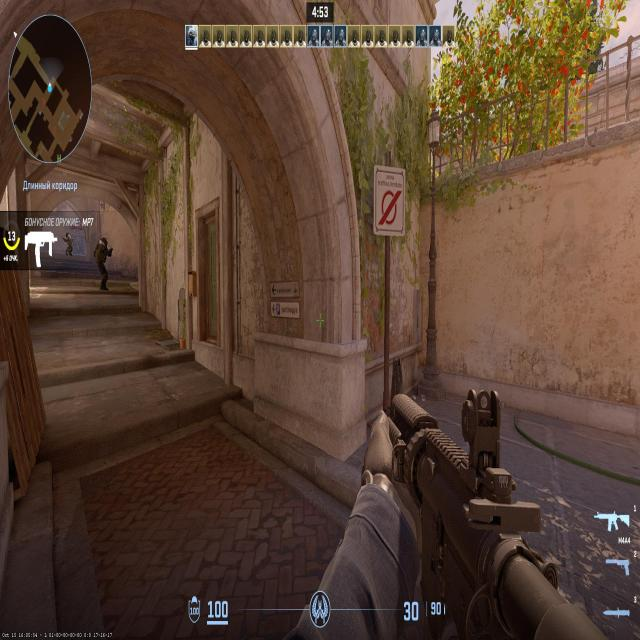CT: (101, 240, 109, 292), (66, 235, 72, 253)
CT_heat: (103, 238, 106, 248), (68, 235, 70, 239)
